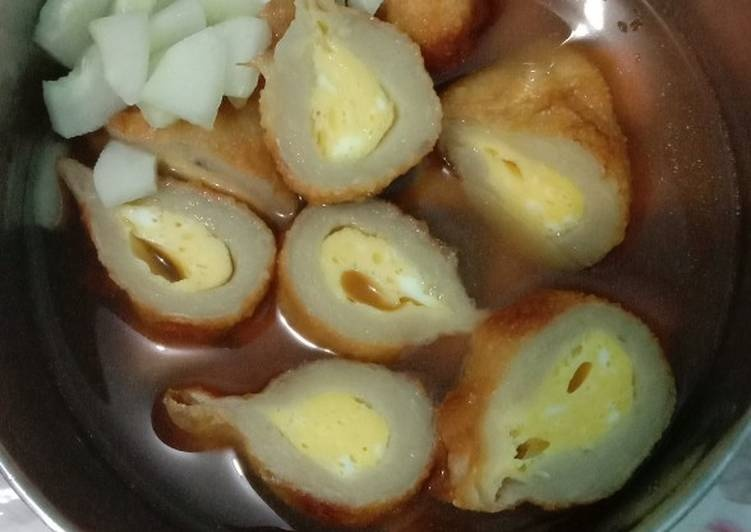pempek: (59, 1, 681, 530)
